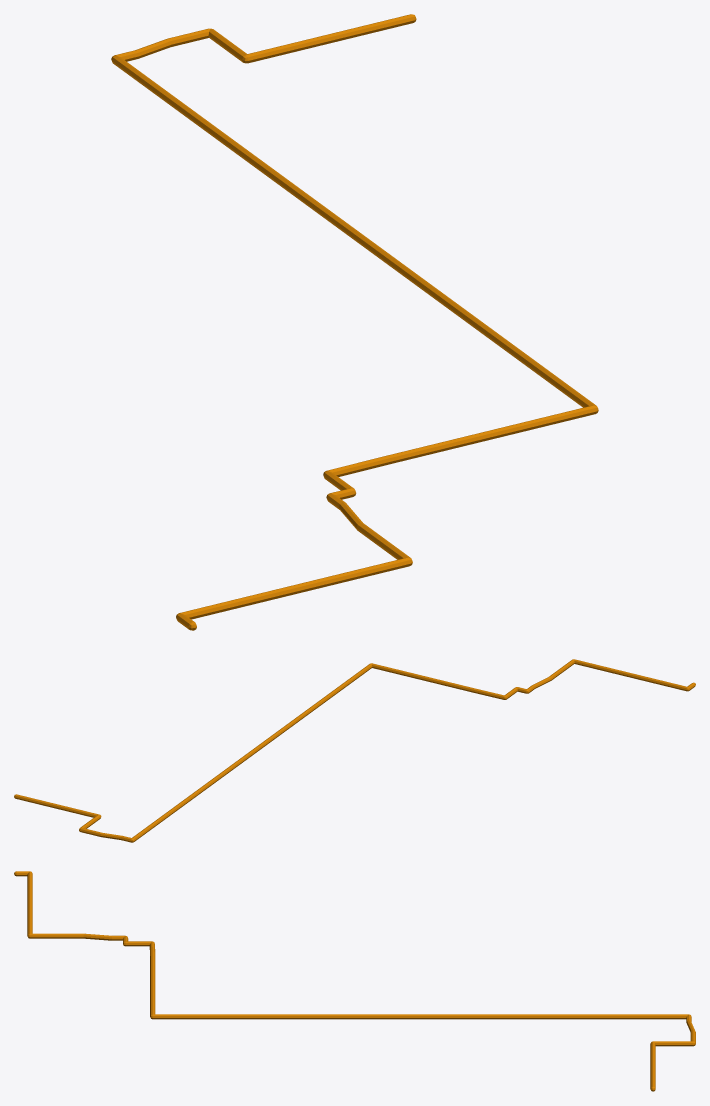
3 renders of one model, top to bottom at view 1: azimuth 30°, elevation 25°; view 2: azimuth 150°, elevation 25°; view 3: azimuth 270°, elevation 25°, orthographic. The views are drawn at different scales.
Bounding box in the file's own units: 1920 × 20 × 2544.
